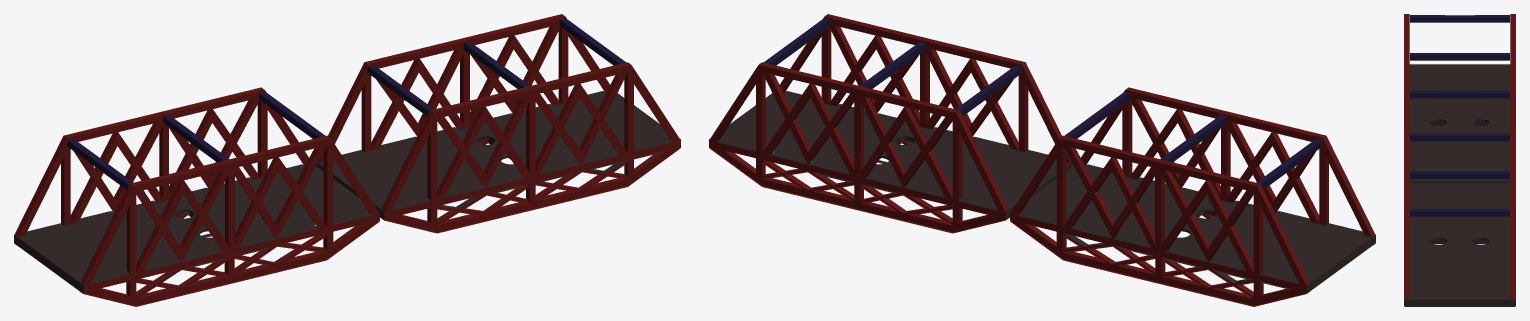
The model's file is Pont Final BO.FBX.
3 views of the same model, side by side, from view 1: azimuth 30°, elevation 25°; view 2: azimuth 150°, elevation 25°; view 3: azimuth 270°, elevation 25° (orthographic). The views are drawn at different scales.
Parts seen in each view (by area): view 1: BRIDG, BRIDG002; view 2: BRIDG, BRIDG002; view 3: BRIDG002, BRIDG.
Boxes of the visible parts, left/top/right/bottom form: BRIDG: left=14, top=87, right=379, bottom=306; BRIDG002: left=316, top=14, right=680, bottom=233; BRIDG: left=1010, top=87, right=1375, bottom=306; BRIDG002: left=709, top=14, right=1073, bottom=233; BRIDG002: left=1404, top=132, right=1515, bottom=306; BRIDG: left=1404, top=14, right=1515, bottom=182.
Bounding box in the file's own units: 166 × 32.21 × 33.33.
